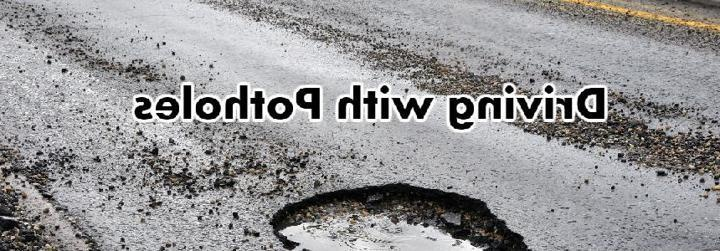pothole: (266, 178, 537, 249)
